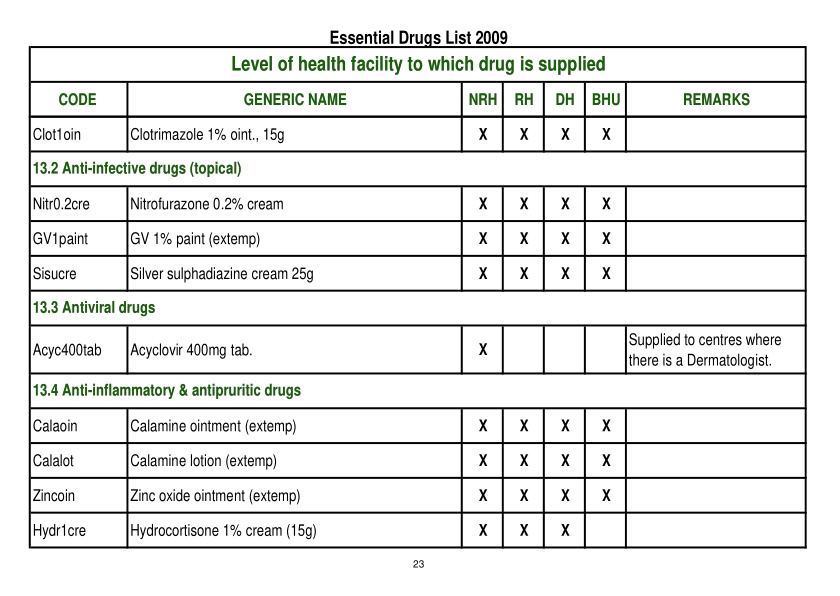merged_cells: (27, 44, 809, 551)
